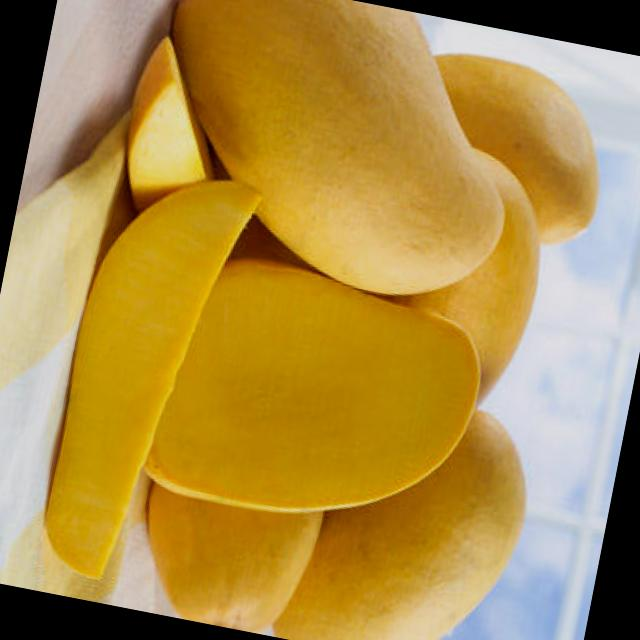mango: (147, 0, 547, 317), (138, 245, 500, 550)
